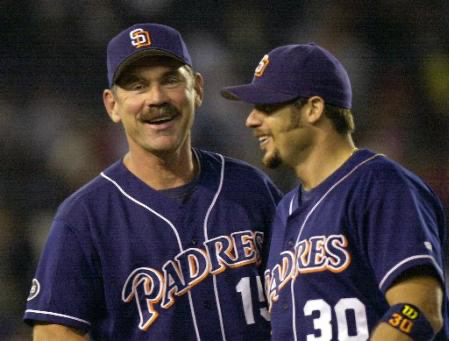Face: (237, 79, 320, 172), (111, 58, 193, 152)
